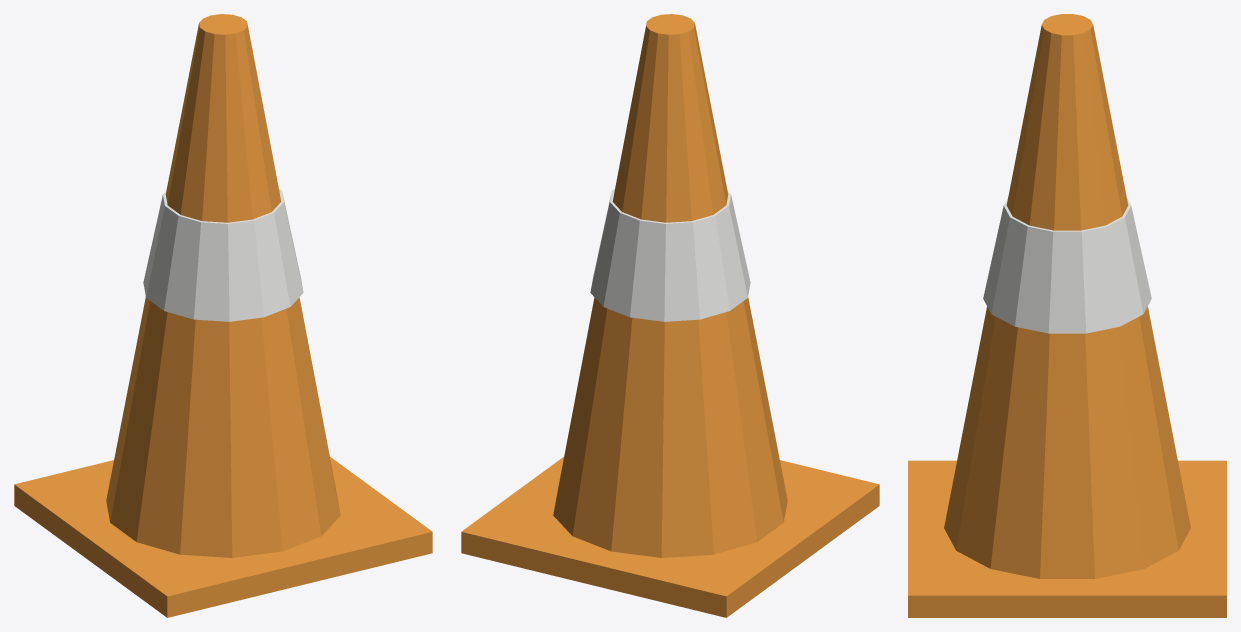
File: dm_trafficcone.glb
The picture shows the model from 3 angles, left to right: view 1: azimuth 30°, elevation 25°; view 2: azimuth 150°, elevation 25°; view 3: azimuth 270°, elevation 25°; orthographic projection. The views are drawn at different scales.
Visible parts, largest first — view 1: dm_trafficcone; view 2: dm_trafficcone; view 3: dm_trafficcone.
Boxes of the visible parts, box(x1,y1,x2,y2) form: dm_trafficcone: box(14, 14, 432, 617); dm_trafficcone: box(461, 14, 879, 617); dm_trafficcone: box(908, 14, 1226, 617).
Size of the model in its own units: 0.31 by 0.564 by 0.31.
